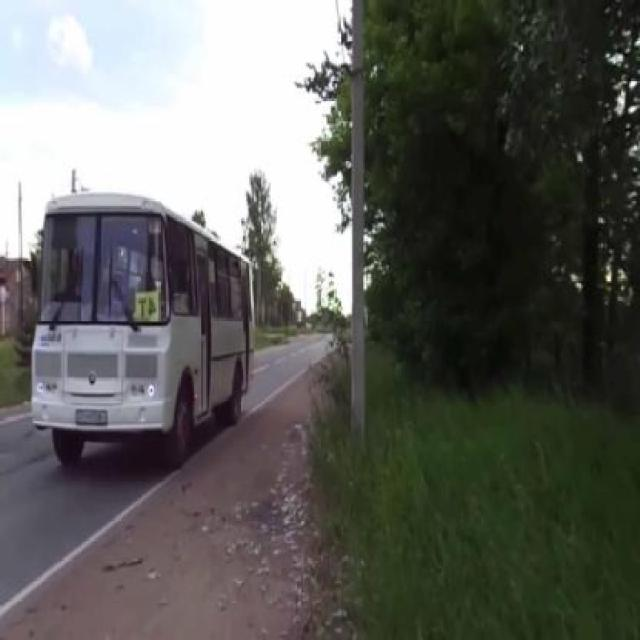bus: (30, 191, 257, 463)
